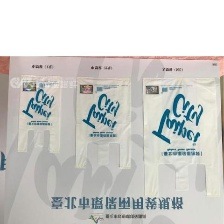plastic_bag: (142, 74, 222, 199), (73, 74, 132, 171), (13, 73, 65, 155)
